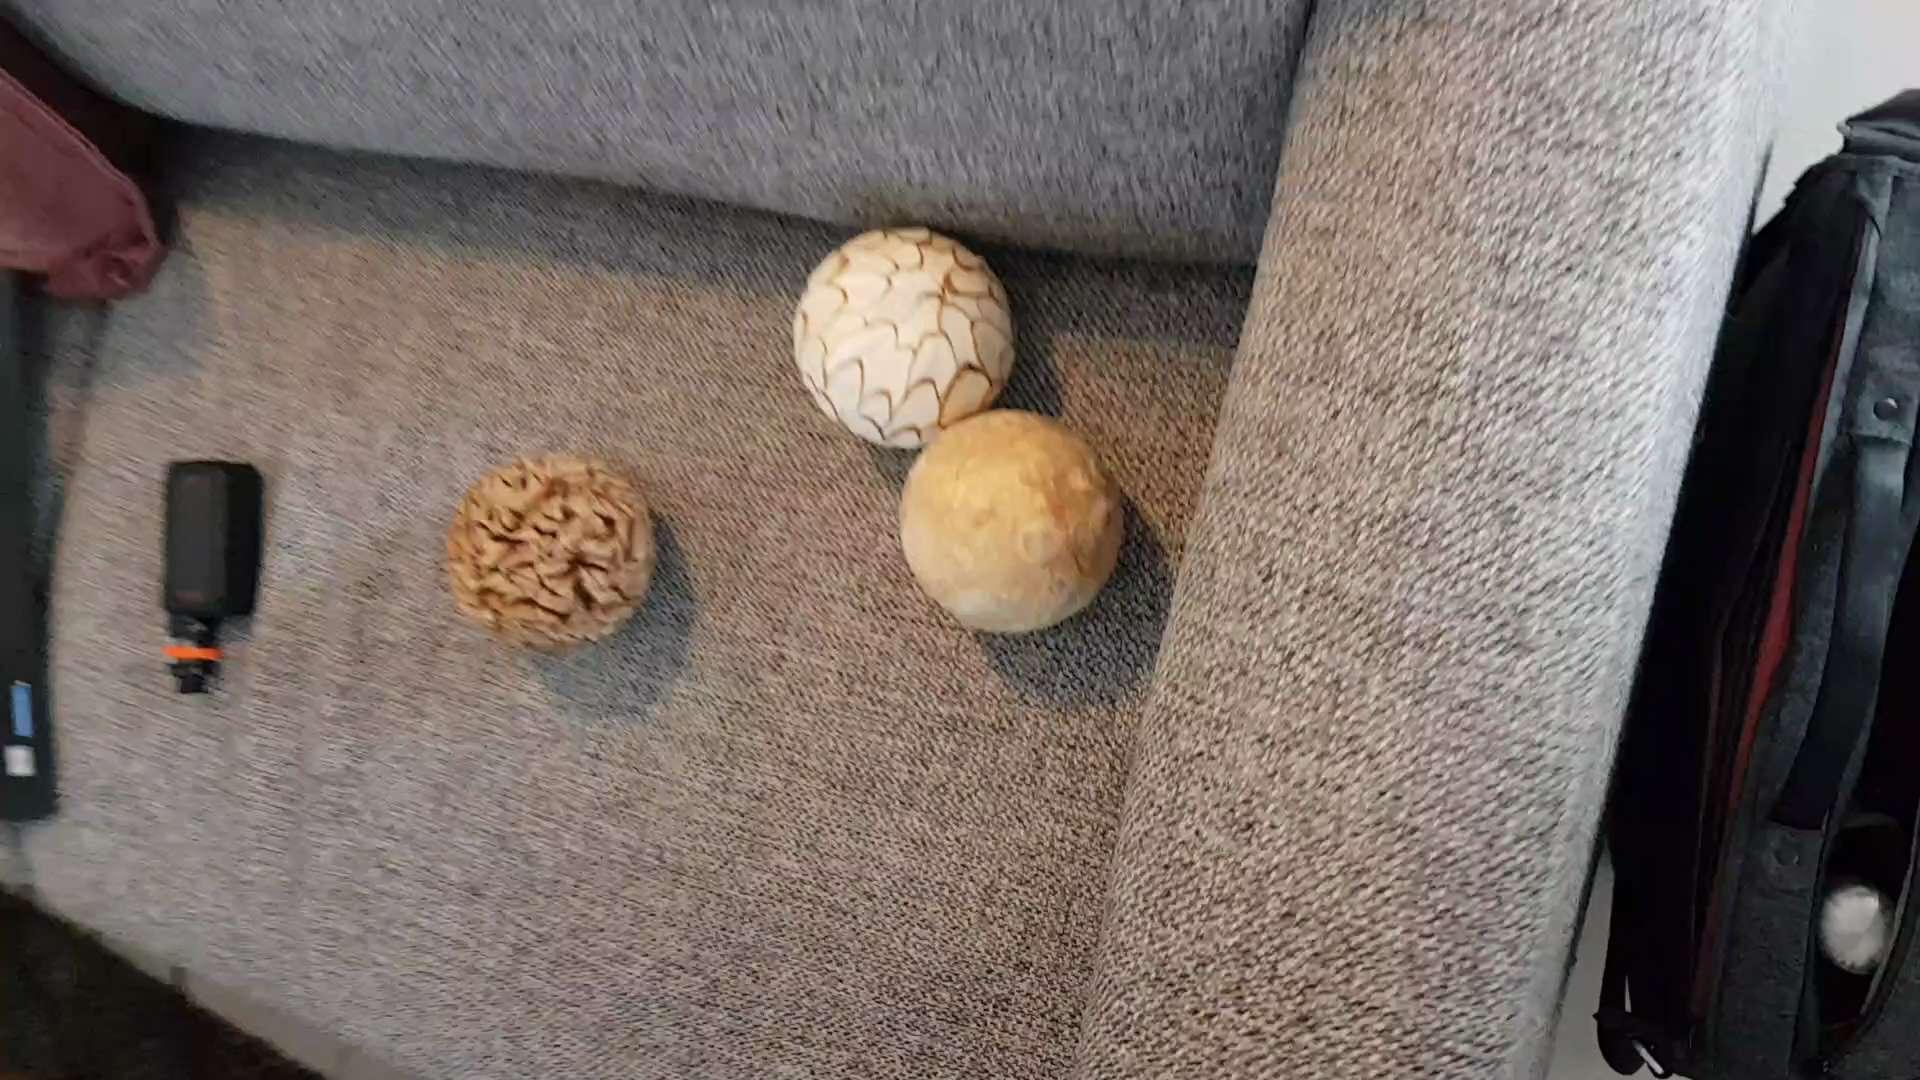sphere: (789, 211, 1021, 455), (894, 407, 1127, 630), (448, 429, 670, 651)
